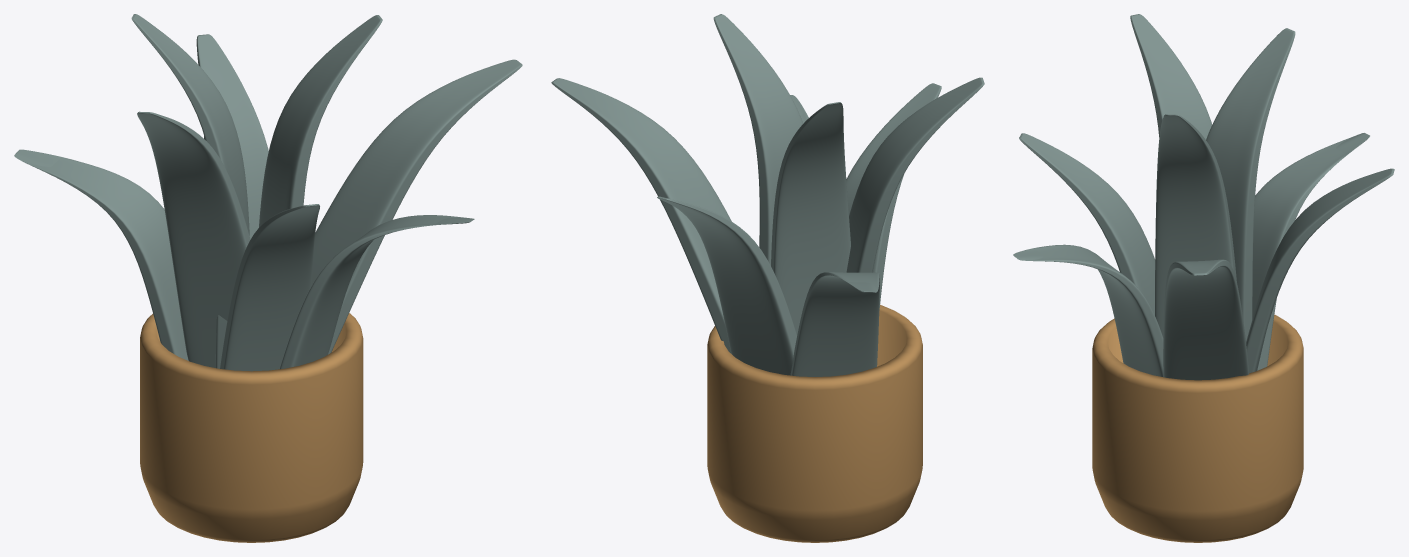
File: plant.fbx
3 views of the same model, side by side, from view 1: azimuth 30°, elevation 25°; view 2: azimuth 150°, elevation 25°; view 3: azimuth 270°, elevation 25° (orthographic). The views are drawn at different scales.
Parts seen in each view (by area): view 1: Plant; view 2: Plant; view 3: Plant.
Part boxes in pixels (x1,y1,x2,y2): Plant: [14, 14, 522, 542]; Plant: [551, 14, 984, 542]; Plant: [1013, 14, 1394, 542].
Size of the model in its own units: 0.8629 by 0.9603 by 0.7178.
